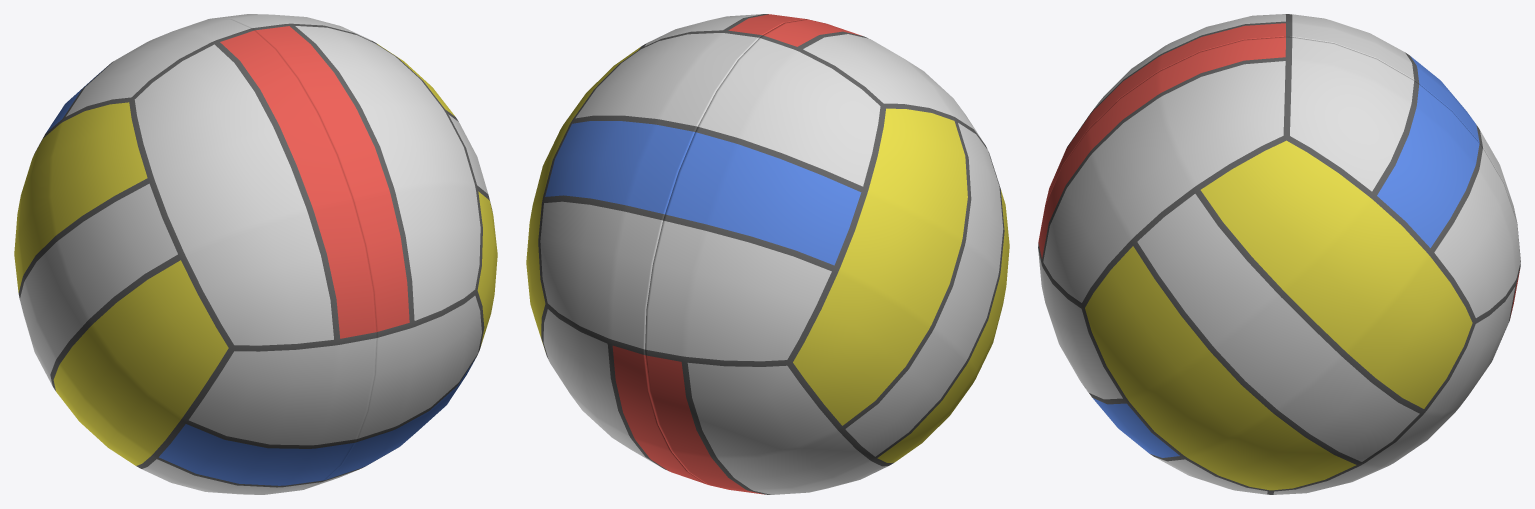
File: SM_Volleyballo_01a.fbx
3 renders of one model, left to right at view 1: azimuth 30°, elevation 25°; view 2: azimuth 150°, elevation 25°; view 3: azimuth 270°, elevation 25°, orthographic.
Parts seen in each view (by area): view 1: Volleyballo_02, Volleyballo_01; view 2: Volleyballo_02, Volleyballo_01; view 3: Volleyballo_01, Volleyballo_02.
Part boxes in pixels (<box>): Volleyballo_02: <box>14,19,376,494</box>; Volleyballo_01: <box>210,14,497,488</box>; Volleyballo_02: <box>645,19,1009,494</box>; Volleyballo_01: <box>526,14,805,484</box>; Volleyballo_01: <box>1038,36,1520,494</box>; Volleyballo_02: <box>1045,14,1516,220</box>.
Bounding box in the file's own units: 26.68 × 27.41 × 27.41.
